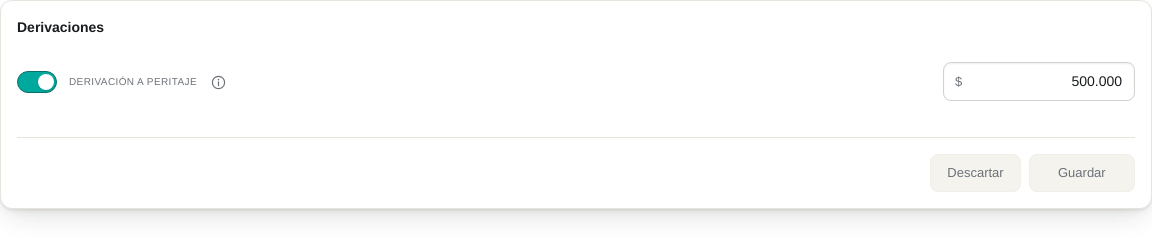
DerivationsConfigComponent › saves the new amount as a number
This screenshot has width=1152, height=238.
Replace the text in the field with "600000" at (1039, 82), box [943,62,1135,101]
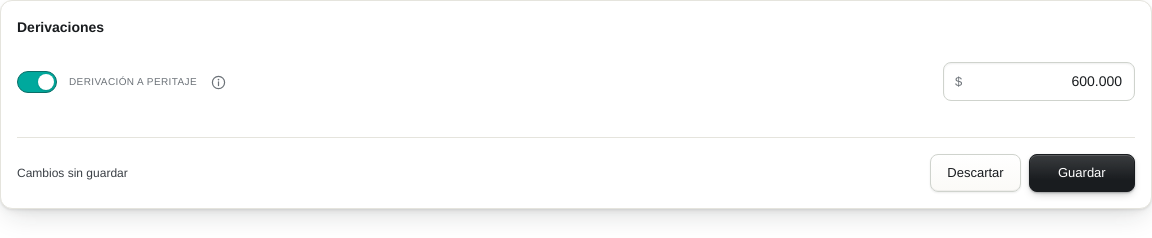
Click the button "Guardar" at (1082, 173), box [1029,154,1135,192]
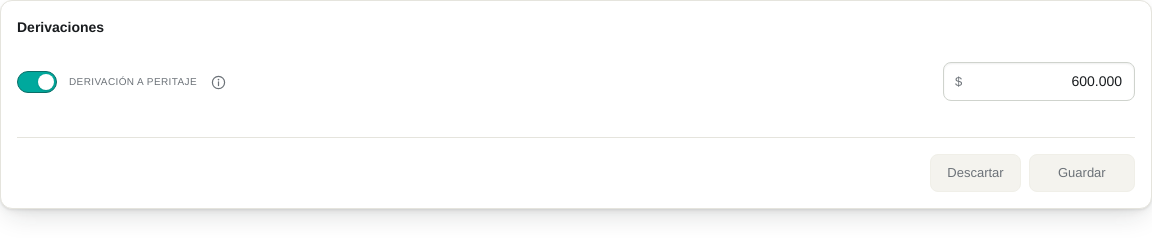
Result: the button "Guardar" is disabled at [1029,154,1135,192]
